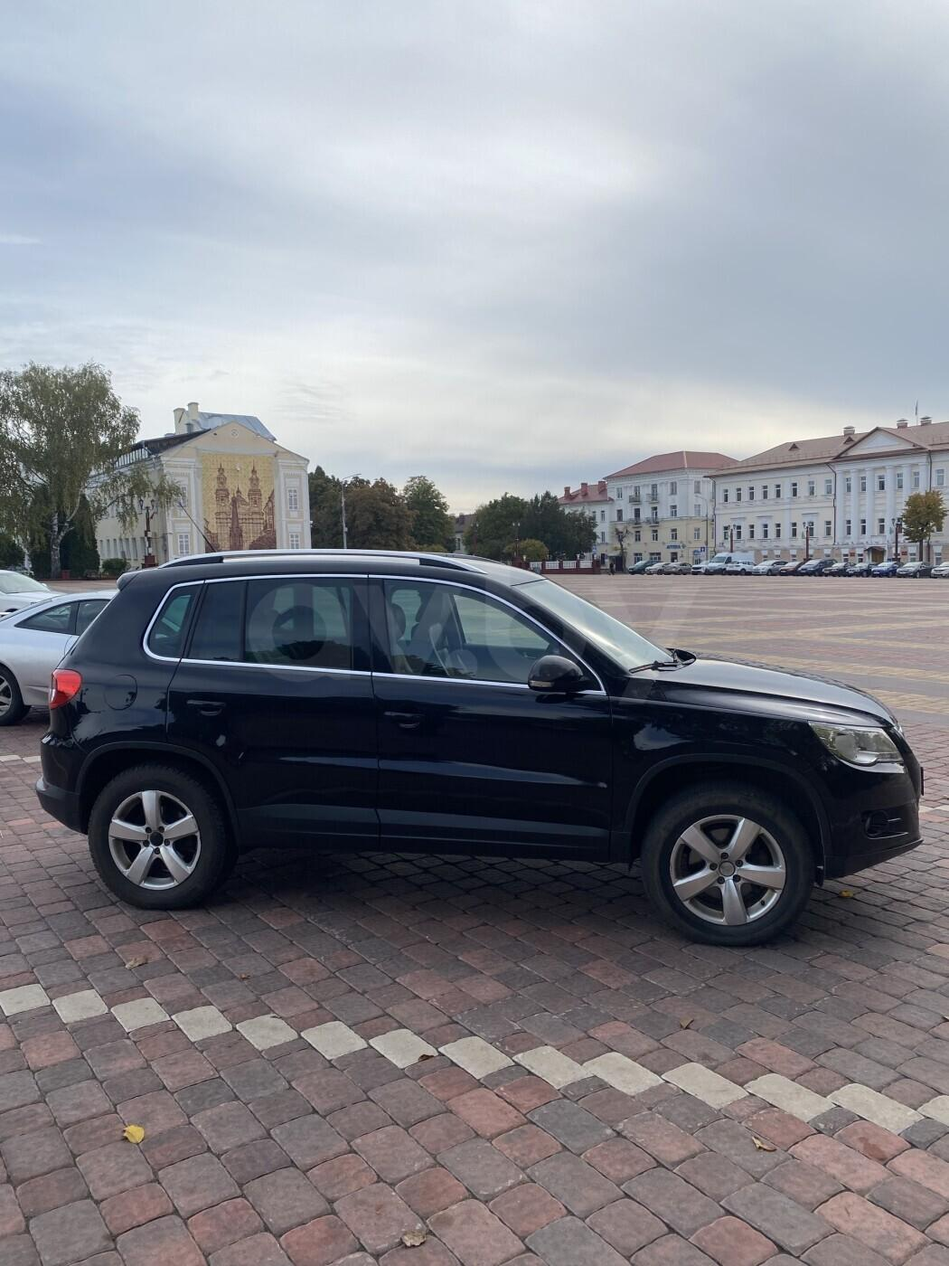Tiguan_2007-2011: (34, 550, 922, 953)
